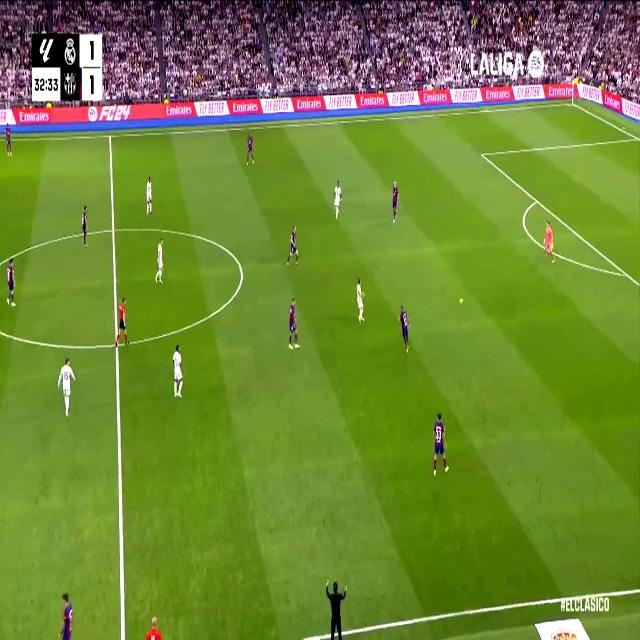bigarea_top_inner: (478, 147, 486, 161)
bigarea_top_outter: (635, 131, 640, 143)
bottom_arc_area_intersection: (621, 264, 629, 282)
corner: (568, 98, 576, 108)
halfcircle_bottom: (110, 333, 122, 355)
halfcircle_top: (108, 218, 119, 240)
midline_top_intersection: (106, 128, 114, 144)
top_arc_area_intersection: (534, 194, 539, 206)
